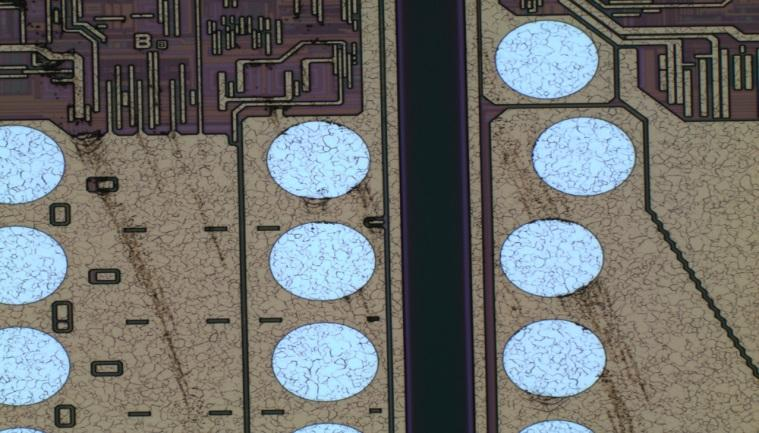SCRATCH: (8, 1, 666, 433)
